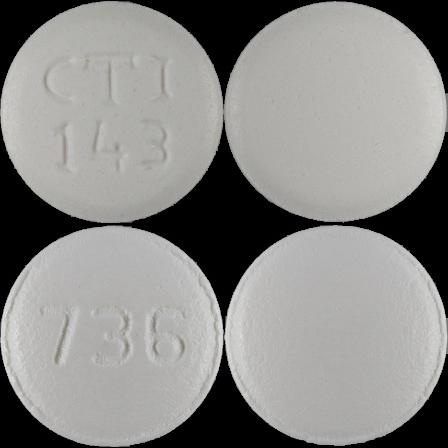68788-9668: (0, 0, 224, 224)
